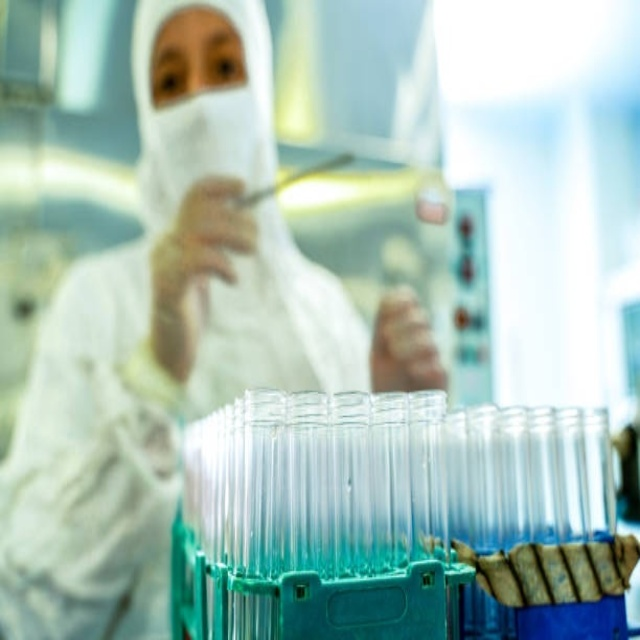Guantes: (132, 174, 261, 391), (367, 278, 455, 392)
Mascara: (144, 90, 273, 239)
Sin_gafas: (150, 36, 241, 86)
